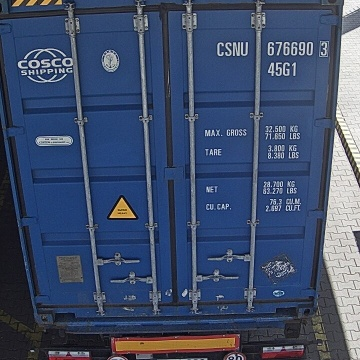serial_id: (217, 41, 328, 56)
